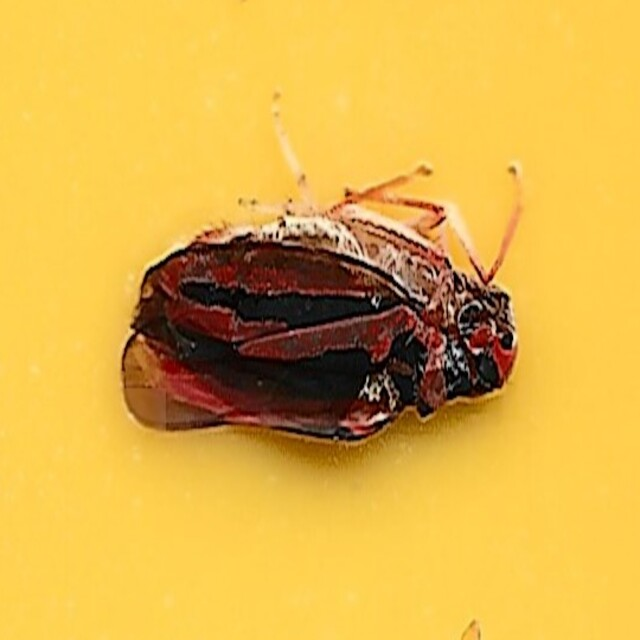Hemiptera: (119, 192, 521, 448)
